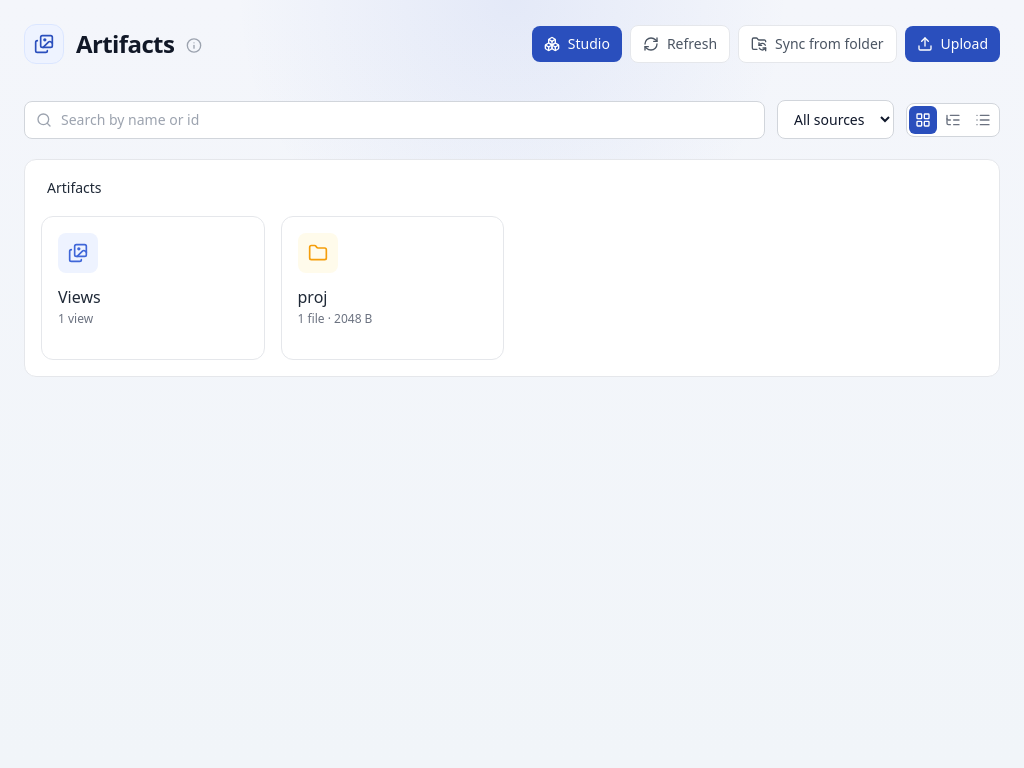
Test: Artifacts page › shows a code file as a code block with its language and a copy button
Click the text "proj". click: (312, 297)
box: [298,286,327,308]
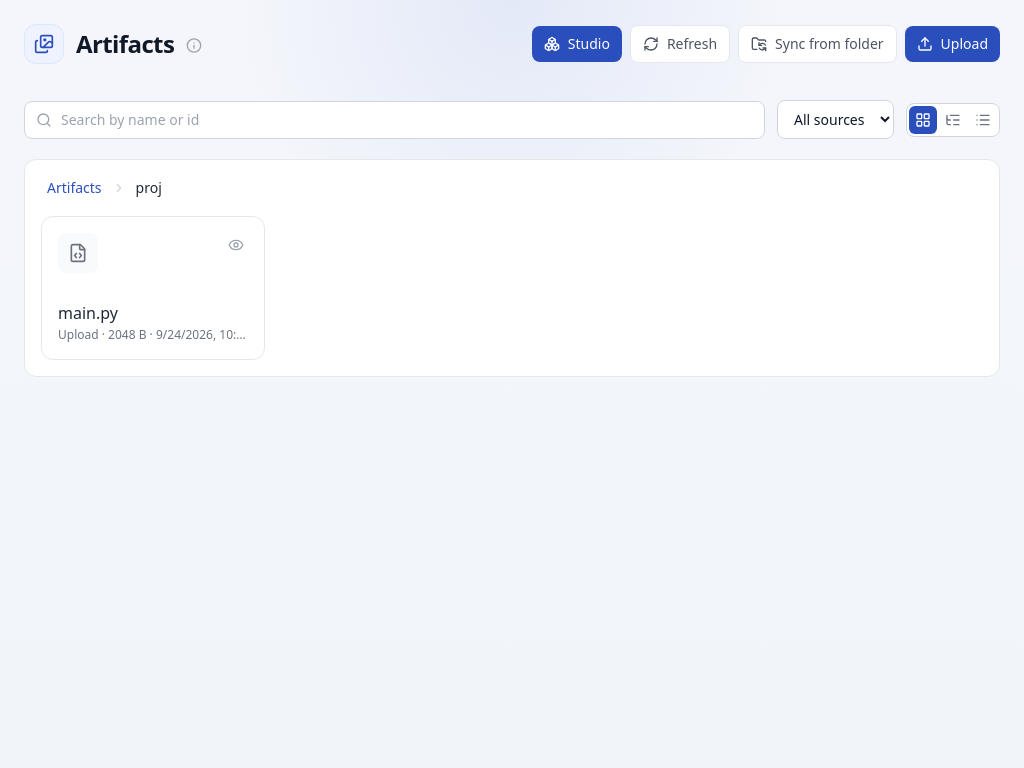
Click the button named "Preview". click: (236, 245)
box: [224,233,248,257]
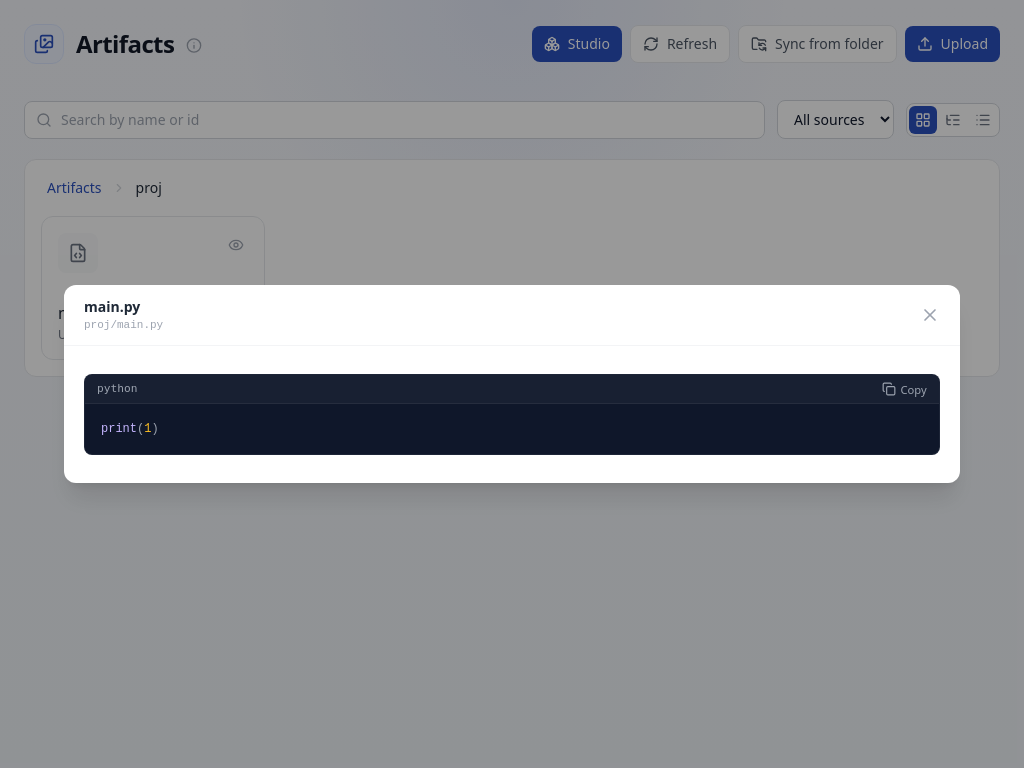
Expected: the element with test id "code-block" shows "print(1)", [84,374,940,456]
Expected: the text with class "hl-code-block__lang" reads "python", [97,382,137,395]
Expected: the button with class "hl-code-block__action" is shown, [876,379,933,400]
